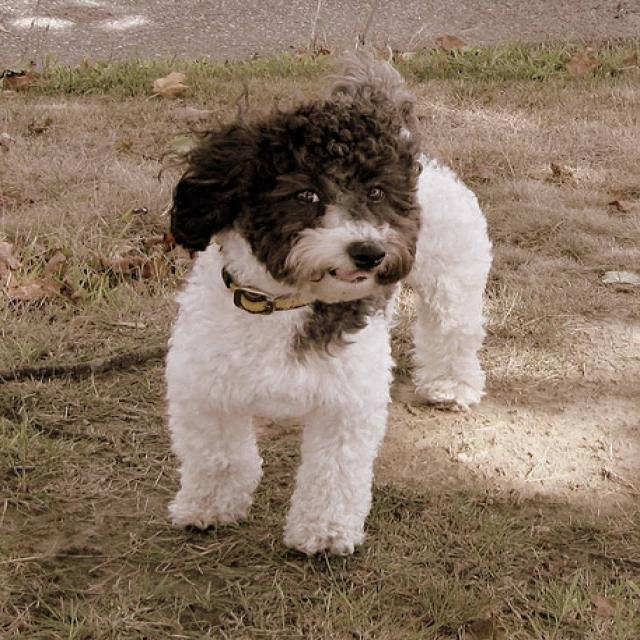dog-havanese: (154, 84, 497, 562)
